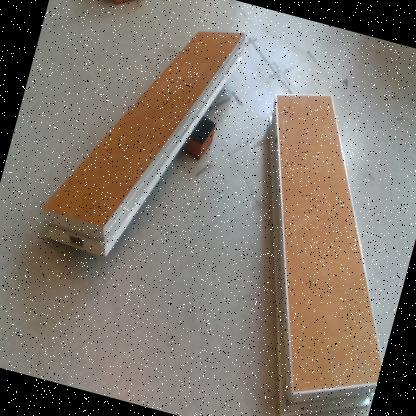Stairs: (39, 31, 244, 256), (268, 94, 382, 416)
